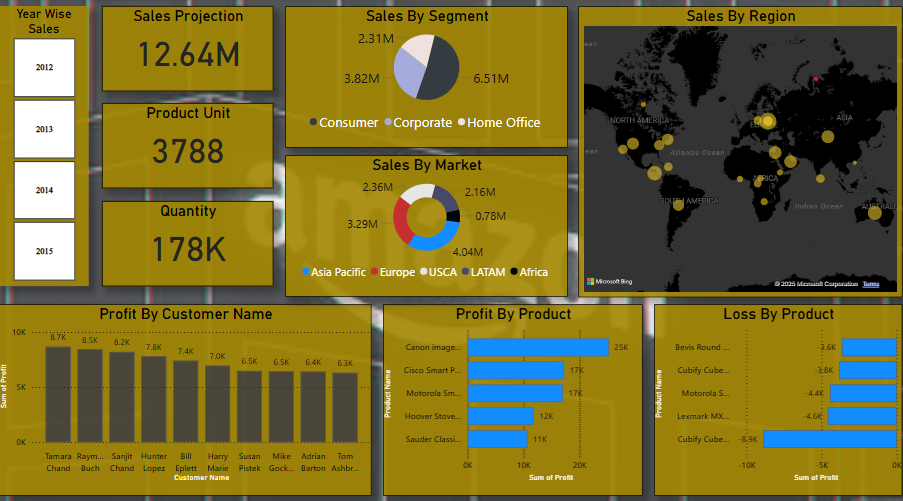

What the dashboard file says about the page in this screenshot:
{"tool":"powerbi","page":{"name":"Amazon_Dashboard","canvas":[1280,720],"ordinal":0},"visuals":[{"type":"slicer","title":"Year Wise Sales","fields":{"Values":["Orders.Year"]},"box":[0,10,127.1,397.1],"z":0},{"type":"card","title":"Sales Projection","fields":{"Values":["Orders.Sales"]},"box":[145.7,10,242.9,121.4],"z":1000},{"type":"card","title":"Product Unit","fields":{"Values":["Orders.Product ID"]},"box":[145.7,147.1,242.9,121.4],"z":2000},{"type":"card","title":"Quantity","fields":{"Values":["Orders.Quantity"]},"box":[145.7,285.7,242.9,121.4],"z":3000},{"type":"columnChart","title":"Profit By Customer Name","fields":{"Category":["Orders.Customer Name"],"Y":["Orders.Profit"]},"box":[0,432,528,272],"z":4000},{"type":"pieChart","title":"Sales By Segment","fields":{"Y":["Orders.Sales"],"Category":["Orders.Segment"]},"box":[405.7,10,401.4,201.4],"z":5000},{"type":"map","title":"Sales By Region","fields":{"Size":["Orders.Sales"],"Category":["Orders.Region"]},"box":[820,10,460,412.9],"z":6000},{"type":"clusteredBarChart","title":"Profit By Product","fields":{"Category":["Orders.Product Name"],"Y":["Orders.Profit"]},"box":[544,432,368,272],"z":7000},{"type":"donutChart","title":"Sales By Market","fields":{"Y":["Orders.Sales"],"Category":["Orders.Market"]},"box":[405.7,221.4,401.4,201.4],"z":8000},{"type":"clusteredBarChart","title":"Loss By Product","fields":{"Category":["Orders.Product Name"],"Y":["Orders.Profit"]},"box":[928,432,352,272],"z":9000}]}

Visuals, with their boxes in screenshot pixels (x1, y1, x2, y2), scaled from the page's 1280x720 canvas onto the 903x501 screenshot:
"Year Wise Sales" slicer: x1=0, y1=7, x2=90, y2=283
"Sales Projection" card: x1=103, y1=7, x2=274, y2=91
"Product Unit" card: x1=103, y1=102, x2=274, y2=187
"Quantity" card: x1=103, y1=199, x2=274, y2=283
"Profit By Customer Name" columnChart: x1=0, y1=301, x2=372, y2=490
"Sales By Segment" pieChart: x1=286, y1=7, x2=569, y2=147
"Sales By Region" map: x1=578, y1=7, x2=902, y2=294
"Profit By Product" clusteredBarChart: x1=384, y1=301, x2=643, y2=490
"Sales By Market" donutChart: x1=286, y1=154, x2=569, y2=294
"Loss By Product" clusteredBarChart: x1=655, y1=301, x2=902, y2=490
